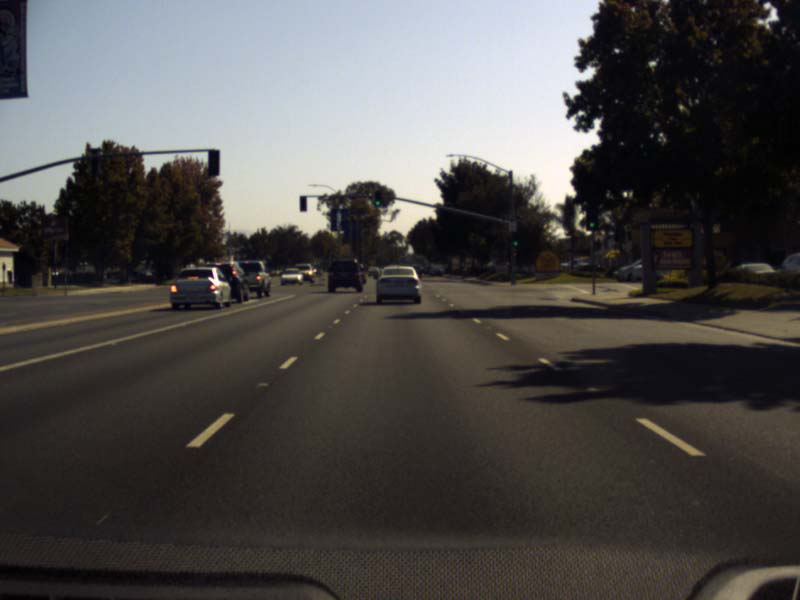Green: (586, 199, 598, 229), (374, 190, 381, 206), (512, 232, 519, 247)
